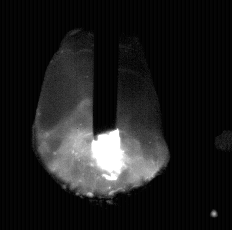arame: (93, 0, 118, 141)
poca: (35, 0, 165, 230)
